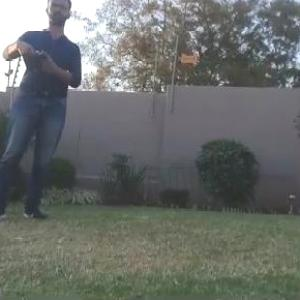follow: (0, 0, 89, 227)
